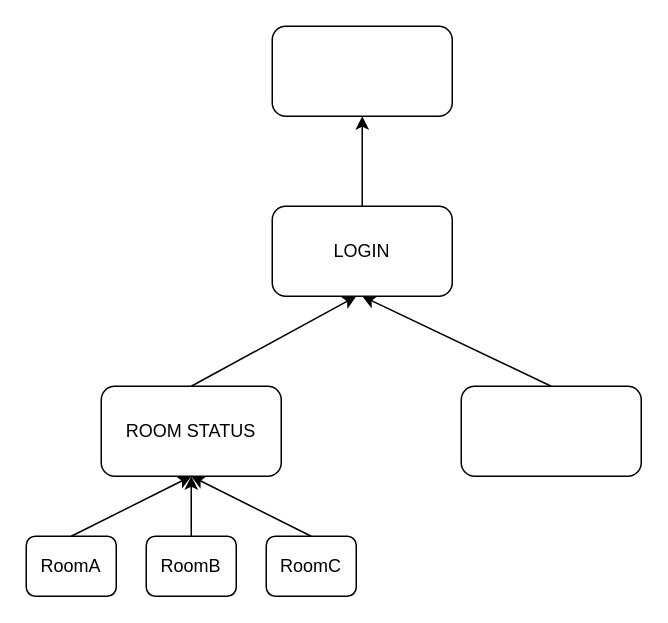
The diagram is 668 pixels wide and 623 high, and some of its shapes have lost their labels. Here are the shapes that lost their labels. From the top down, the centre of each, then its label:
At point (361, 70): "ADMIN".
At point (550, 430): "EMPLOYEE".
